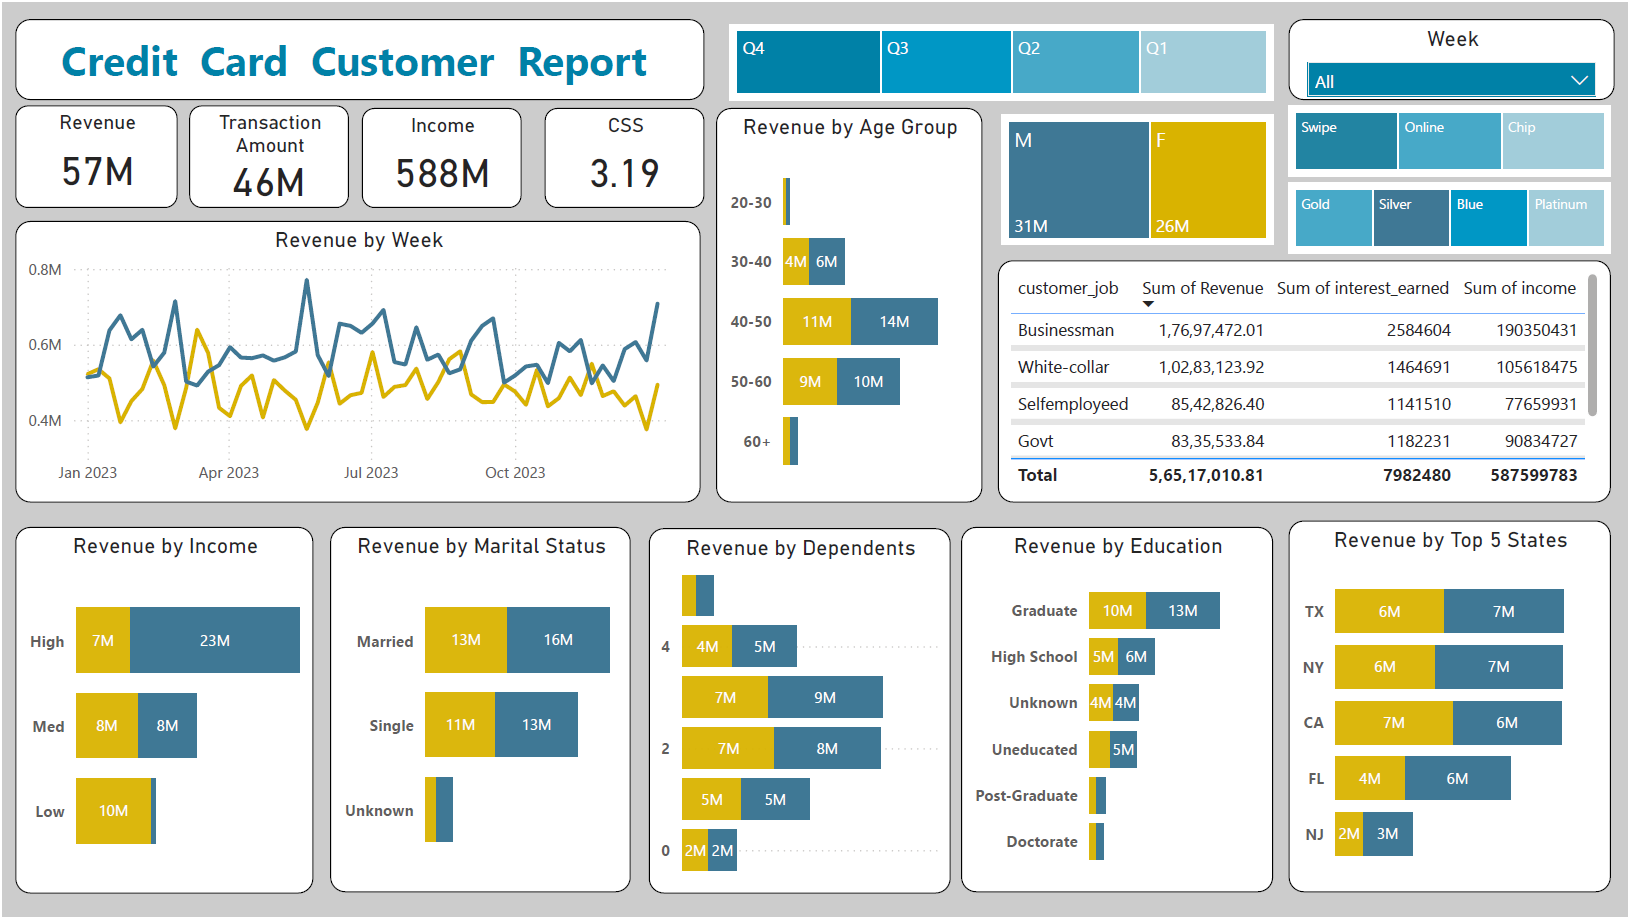

The page's visual inventory and layout, read from the dashboard file:
{"tool":"powerbi","page":{"name":"CC customer","canvas":[1280,720],"ordinal":2},"visuals":[{"type":"textbox","box":[10.5,12.8,543,64],"z":0},{"type":"barChart","title":"Revenue by Income","fields":{"Category":["public cust_detail.IncomeGroup"],"Y":["Sum(public cc_detail.Revenue)"],"Series":["public cust_detail.gender"]},"box":[10.5,412.8,234.9,289.5],"z":1000},{"type":"tableEx","fields":{"Values":["public cust_detail.customer_job","Sum(public cc_detail.Revenue)","Sum(public cc_detail.interest_earned)","Sum(public cust_detail.income)"]},"box":[783.7,203.5,483.7,190.7],"z":2000},{"type":"card","title":"Revenue","fields":{"Values":["Sum(public cc_detail.Revenue)"]},"box":[10.5,81.4,127.9,80.2],"z":3000},{"type":"card","title":"Transaction Amount","fields":{"Values":["Sum(public cc_detail.total_trans_amt)"]},"box":[146.5,81.4,126.7,80.2],"z":4000},{"type":"card","title":"Income","fields":{"Values":["Sum(public cust_detail.income)"]},"box":[282.6,82.6,126.7,79.1],"z":5000},{"type":"card","title":"CSS","fields":{"Values":["Avg(public cust_detail.cust_satisfaction_score)"]},"box":[426.7,82.6,126.7,79.1],"z":6000},{"type":"slicer","title":"Week","fields":{"Values":["public cc_detail.week_start_date"]},"box":[1012.8,12.8,257,64],"z":7000},{"type":"treemap","fields":{"Group":["public cc_detail.qtr"],"Values":["Avg(public cc_detail.client_num)"]},"box":[573.3,17.4,427.9,59.3],"z":8000},{"type":"treemap","fields":{"Values":["Avg(public cc_detail.client_num)"],"Details":["public cc_detail.card_category"]},"box":[1012.8,141.9,254.7,55.8],"z":9000},{"type":"lineChart","title":"Revenue by Week","fields":{"Y":["Sum(public cc_detail.Revenue)"],"Series":["public cust_detail.gender"],"Category":["public cc_detail.week_start_date.Variation.Date Hierarchy.Year","public cc_detail.week_start_date.Variation.Date Hierarchy.Month","public cc_detail.week_start_date.Variation.Date Hierarchy.Day"]},"box":[10.5,172.1,539.5,222.1],"z":10000},{"type":"treemap","fields":{"Group":["public cust_detail.gender"],"Values":["Sum(public cc_detail.Revenue)"]},"box":[787.2,88.4,214,102.3],"z":11000},{"type":"barChart","title":"Revenue by Age Group","fields":{"Category":["public cust_detail.AgeGroup"],"Y":["Sum(public cc_detail.Revenue)"],"Series":["public cust_detail.gender"]},"box":[561.6,82.6,210.5,311.6],"z":12000},{"type":"barChart","title":"Revenue by Dependents","fields":{"Category":["public cust_detail.dependent_count"],"Y":["Sum(public cc_detail.Revenue)"],"Series":["public cust_detail.gender"]},"box":[509.3,414,237.2,288.4],"z":13000},{"type":"barChart","title":"Revenue by Education","fields":{"Category":["public cust_detail.education_level"],"Y":["Sum(public cc_detail.Revenue)"],"Series":["public cust_detail.gender"]},"box":[754.7,412.8,246.5,288.4],"z":14000},{"type":"barChart","title":"Revenue by Top 5 States","fields":{"Y":["Sum(public cc_detail.Revenue)"],"Category":["public cust_detail.state_cd"],"Series":["public cust_detail.gender"]},"box":[1012.8,408.1,254.7,293],"z":15000},{"type":"barChart","title":"Revenue by Marital Status","fields":{"Category":["public cust_detail.marital_status"],"Y":["Sum(public cc_detail.Revenue)"],"Series":["public cust_detail.gender"]},"box":[258.1,412.8,237.2,288.4],"z":16000},{"type":"treemap","fields":{"Values":["Avg(public cc_detail.client_num)"],"Details":["public cc_detail.use_chip"]},"box":[1012.8,81.4,254.7,55.8],"z":17000}]}

Visuals, with their boxes in screenshot pixels (x1, y1, x2, y2), scaled from the page's 1280x720 canvas onto the 1631x917 screenshot:
textbox: pyautogui.locateOnScreen(13, 16, 705, 98)
"Revenue by Income" barChart: pyautogui.locateOnScreen(13, 526, 313, 894)
tableEx - public cust_detail.customer_job x Sum(public cc_detail.Revenue): pyautogui.locateOnScreen(999, 259, 1615, 502)
"Revenue" card: pyautogui.locateOnScreen(13, 104, 176, 206)
"Transaction Amount" card: pyautogui.locateOnScreen(187, 104, 348, 206)
"Income" card: pyautogui.locateOnScreen(360, 105, 522, 206)
"CSS" card: pyautogui.locateOnScreen(544, 105, 705, 206)
"Week" slicer: pyautogui.locateOnScreen(1291, 16, 1618, 98)
treemap - public cc_detail.qtr x Avg(public cc_detail.client_num): pyautogui.locateOnScreen(731, 22, 1276, 98)
treemap - Avg(public cc_detail.client_num) x public cc_detail.card_category: pyautogui.locateOnScreen(1291, 181, 1615, 252)
"Revenue by Week" lineChart: pyautogui.locateOnScreen(13, 219, 701, 502)
treemap - public cust_detail.gender x Sum(public cc_detail.Revenue): pyautogui.locateOnScreen(1003, 113, 1276, 243)
"Revenue by Age Group" barChart: pyautogui.locateOnScreen(716, 105, 984, 502)
"Revenue by Dependents" barChart: pyautogui.locateOnScreen(649, 527, 951, 895)
"Revenue by Education" barChart: pyautogui.locateOnScreen(962, 526, 1276, 893)
"Revenue by Top 5 States" barChart: pyautogui.locateOnScreen(1291, 520, 1615, 893)
"Revenue by Marital Status" barChart: pyautogui.locateOnScreen(329, 526, 631, 893)
treemap - Avg(public cc_detail.client_num) x public cc_detail.use_chip: pyautogui.locateOnScreen(1291, 104, 1615, 175)
